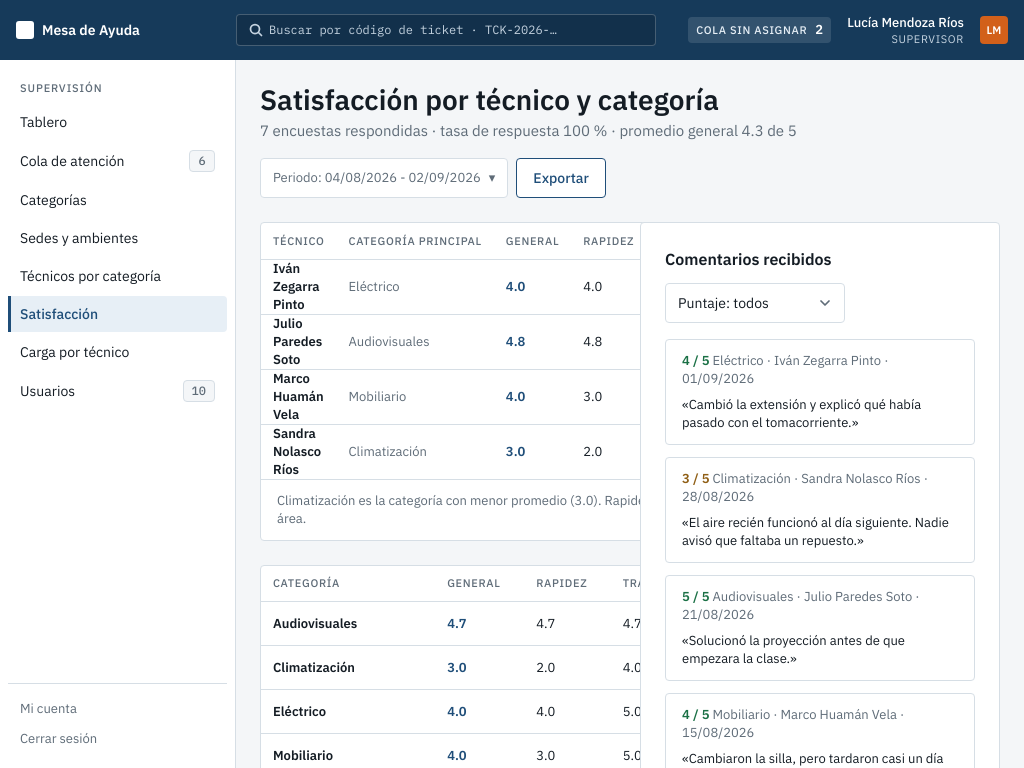
Scenario: SatisfaccionSupervisorPage (Vista 6.3) › permite filtrar comentarios por puntaje
Expected: the heading "Satisfacción por técnico y categoría" is shown, [260,84,797,116]
Select "Puntaje: 1 a 3" in the dropdown named "Filtrar por puntaje:". click: [755, 303]
box: [665,283,845,323]
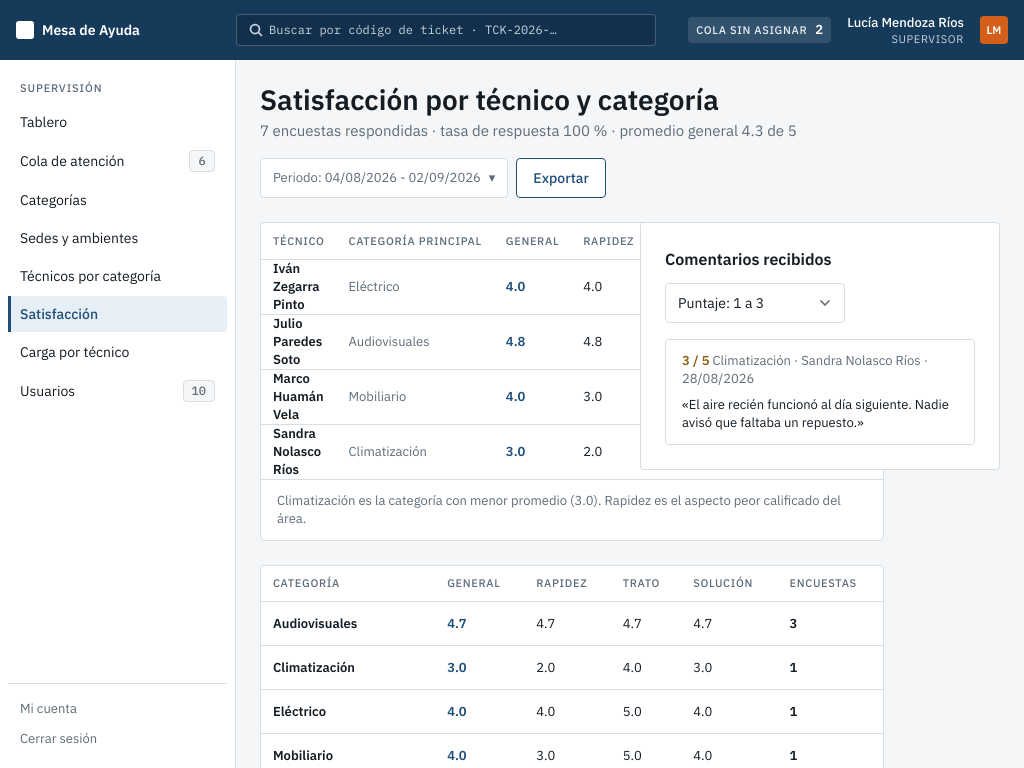
Expected: the dropdown named "Filtrar por puntaje:" shows "Puntaje: 1 a 3", [665,283,845,323]
Expected: the text "«" is shown once, [682,396,958,432]
